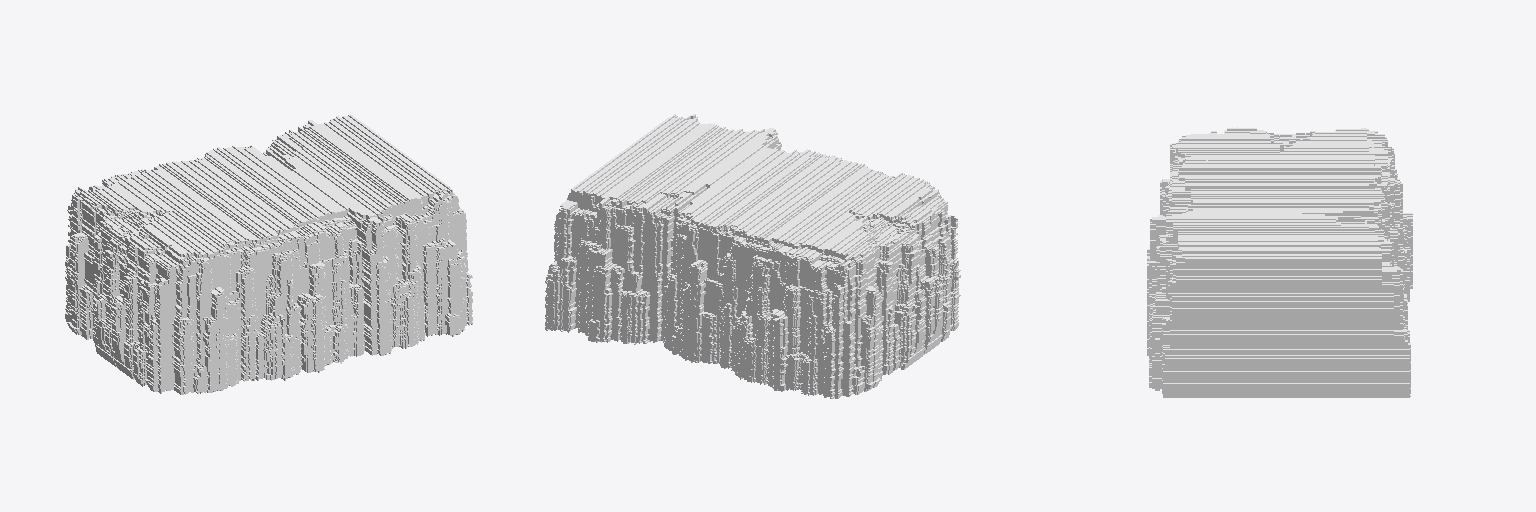
The model's file is forest1.2-172.obj.
3 renders of one model, left to right at view 1: azimuth 30°, elevation 25°; view 2: azimuth 150°, elevation 25°; view 3: azimuth 270°, elevation 25°, orthographic.
Visible parts, largest first — view 1: object 1; view 2: object 1; view 3: object 1.
Boxes of the visible parts, box(x1,y1,x2,y2) form: object 1: box(65, 114, 472, 394); object 1: box(545, 114, 960, 398); object 1: box(1147, 127, 1412, 397).
Bounding box in the file's own units: 25.4 × 10.7 × 18.4.